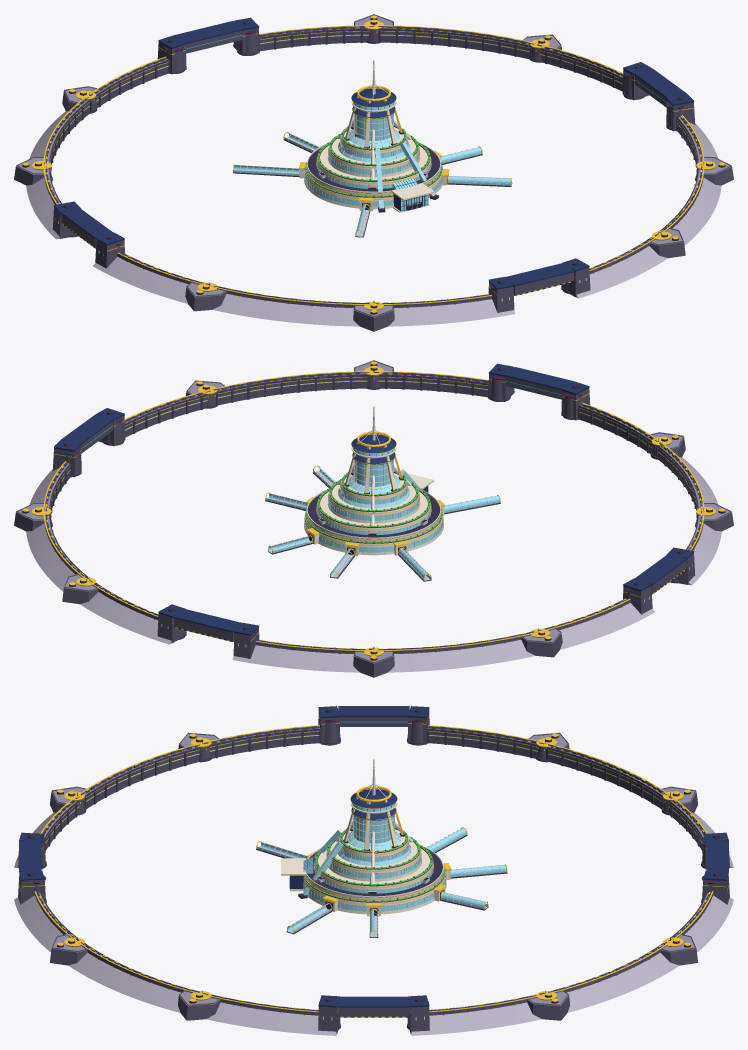
The model's file is ilmb.glb.
The picture shows the model from 3 angles, top to bottom: view 1: azimuth 30°, elevation 25°; view 2: azimuth 150°, elevation 25°; view 3: azimuth 270°, elevation 25°; orthographic projection. The views are drawn at different scales.
Parts seen in each view (by area): view 1: ilmb_wall_b, ilmb_wall_a, ilmb_core_b, ilmb_core_a, ilmb_skywalks; view 2: ilmb_wall_b, ilmb_wall_a, ilmb_core_b, ilmb_core_a, ilmb_skywalks; view 3: ilmb_wall_b, ilmb_wall_a, ilmb_core_b, ilmb_core_a, ilmb_skywalks.
Part boxes in pixels (<box>): ilmb_wall_b: <box>14,14,733,331</box>; ilmb_wall_a: <box>32,19,715,310</box>; ilmb_core_b: <box>299,84,449,212</box>; ilmb_core_a: <box>299,60,449,212</box>; ilmb_skywalks: <box>233,131,512,237</box>; ilmb_wall_b: <box>14,360,733,677</box>; ilmb_wall_a: <box>32,365,715,656</box>; ilmb_core_b: <box>304,430,444,555</box>; ilmb_core_a: <box>306,406,444,556</box>; ilmb_skywalks: <box>265,465,500,581</box>; ilmb_wall_b: <box>14,706,733,1035</box>; ilmb_wall_a: <box>31,715,716,1029</box>; ilmb_core_b: <box>289,784,451,916</box>; ilmb_core_a: <box>281,759,451,915</box>; ilmb_skywalks: <box>256,827,507,938</box>.
Size of the model in its own units: 523 by 101 by 523.
